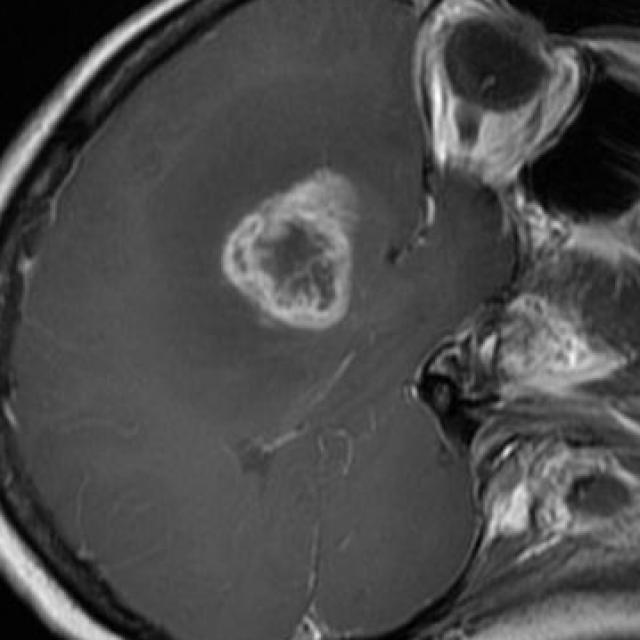glioma: (221, 169, 358, 332)
